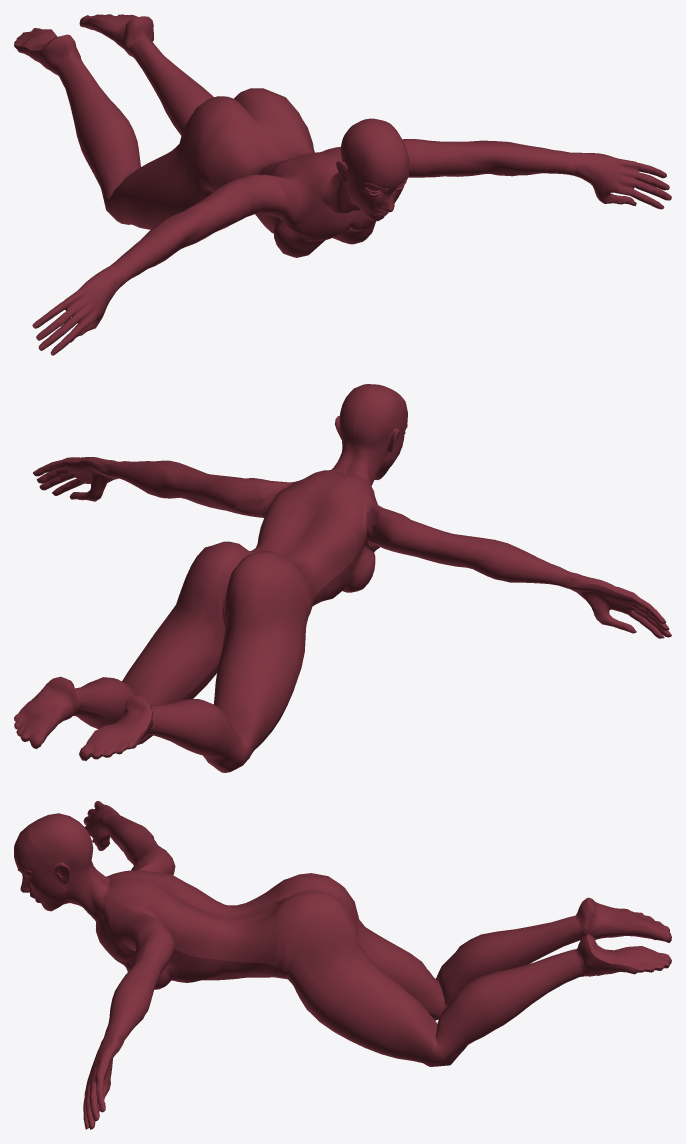
The model's file is nage-femme.glb.
3 renders of one model, top to bottom at view 1: azimuth 30°, elevation 25°; view 2: azimuth 150°, elevation 25°; view 3: azimuth 270°, elevation 25°, orthographic. The views are drawn at different scales.
Visible parts, largest first — view 1: Superhero_Female; view 2: Superhero_Female; view 3: Superhero_Female.
Boxes of the visible parts, x1=… form: Superhero_Female: x1=14, y1=14, x2=671, y2=355; Superhero_Female: x1=14, y1=384, x2=671, y2=772; Superhero_Female: x1=14, y1=801, x2=671, y2=1129.
Bounding box in the file's own units: 1.72 × 0.5957 × 1.58.
